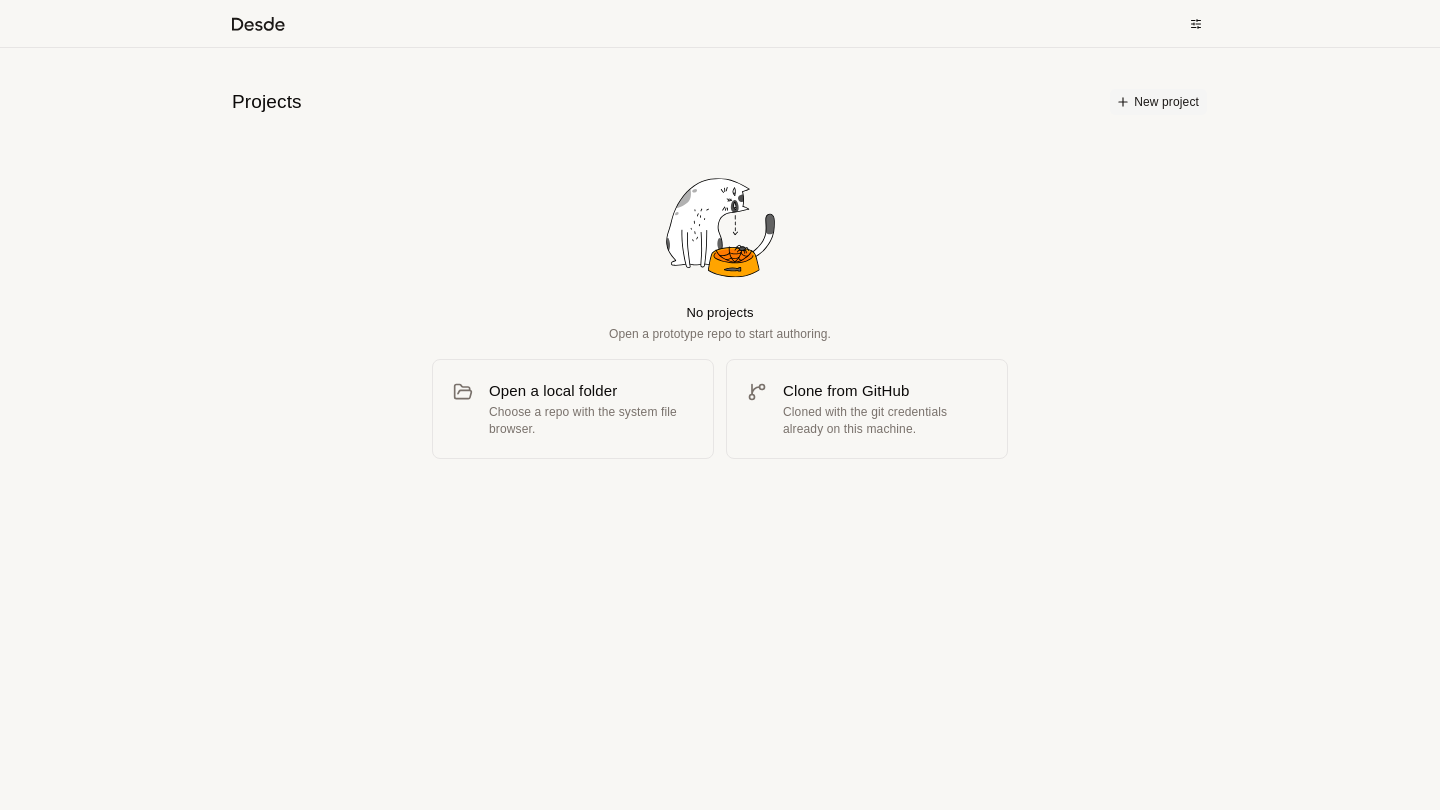
Test: LauncherPage — empty-state local tile › still routes the clone tile through the dialog (unchanged)
Click the button with test id "launcher-empty-clone" at (867, 409), box left=726, top=359, right=1008, bottom=459
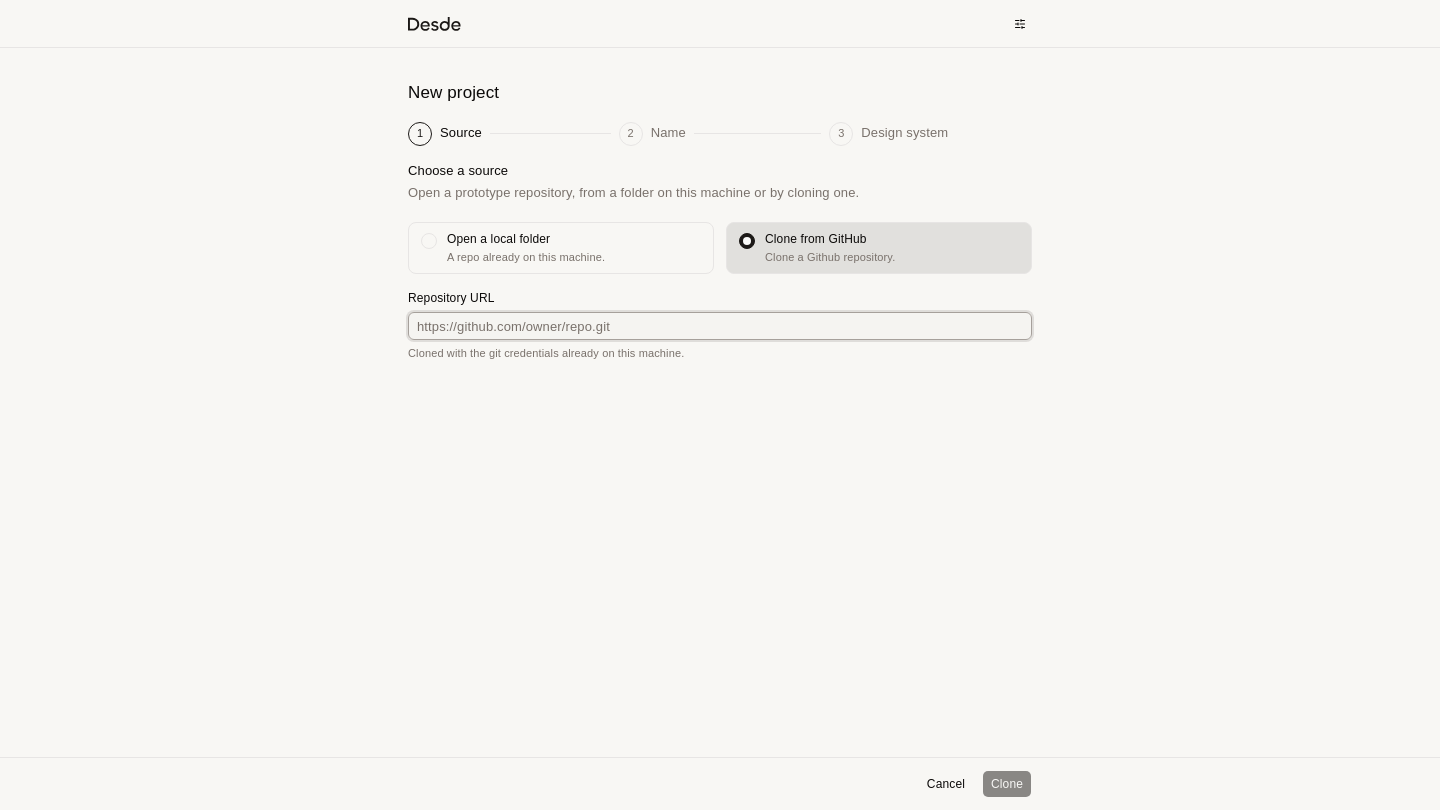
Now the element with test id "new-project-page" is shown
Now the field labelled "Repository URL" is shown, box left=408, top=312, right=1032, bottom=340
